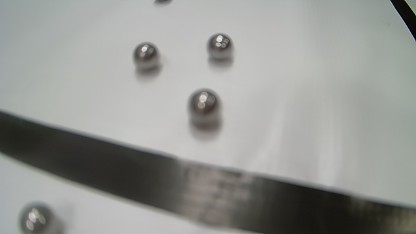ironball: (19, 203, 61, 234), (189, 89, 220, 127), (207, 33, 233, 60), (133, 42, 159, 69), (154, 0, 171, 2)
